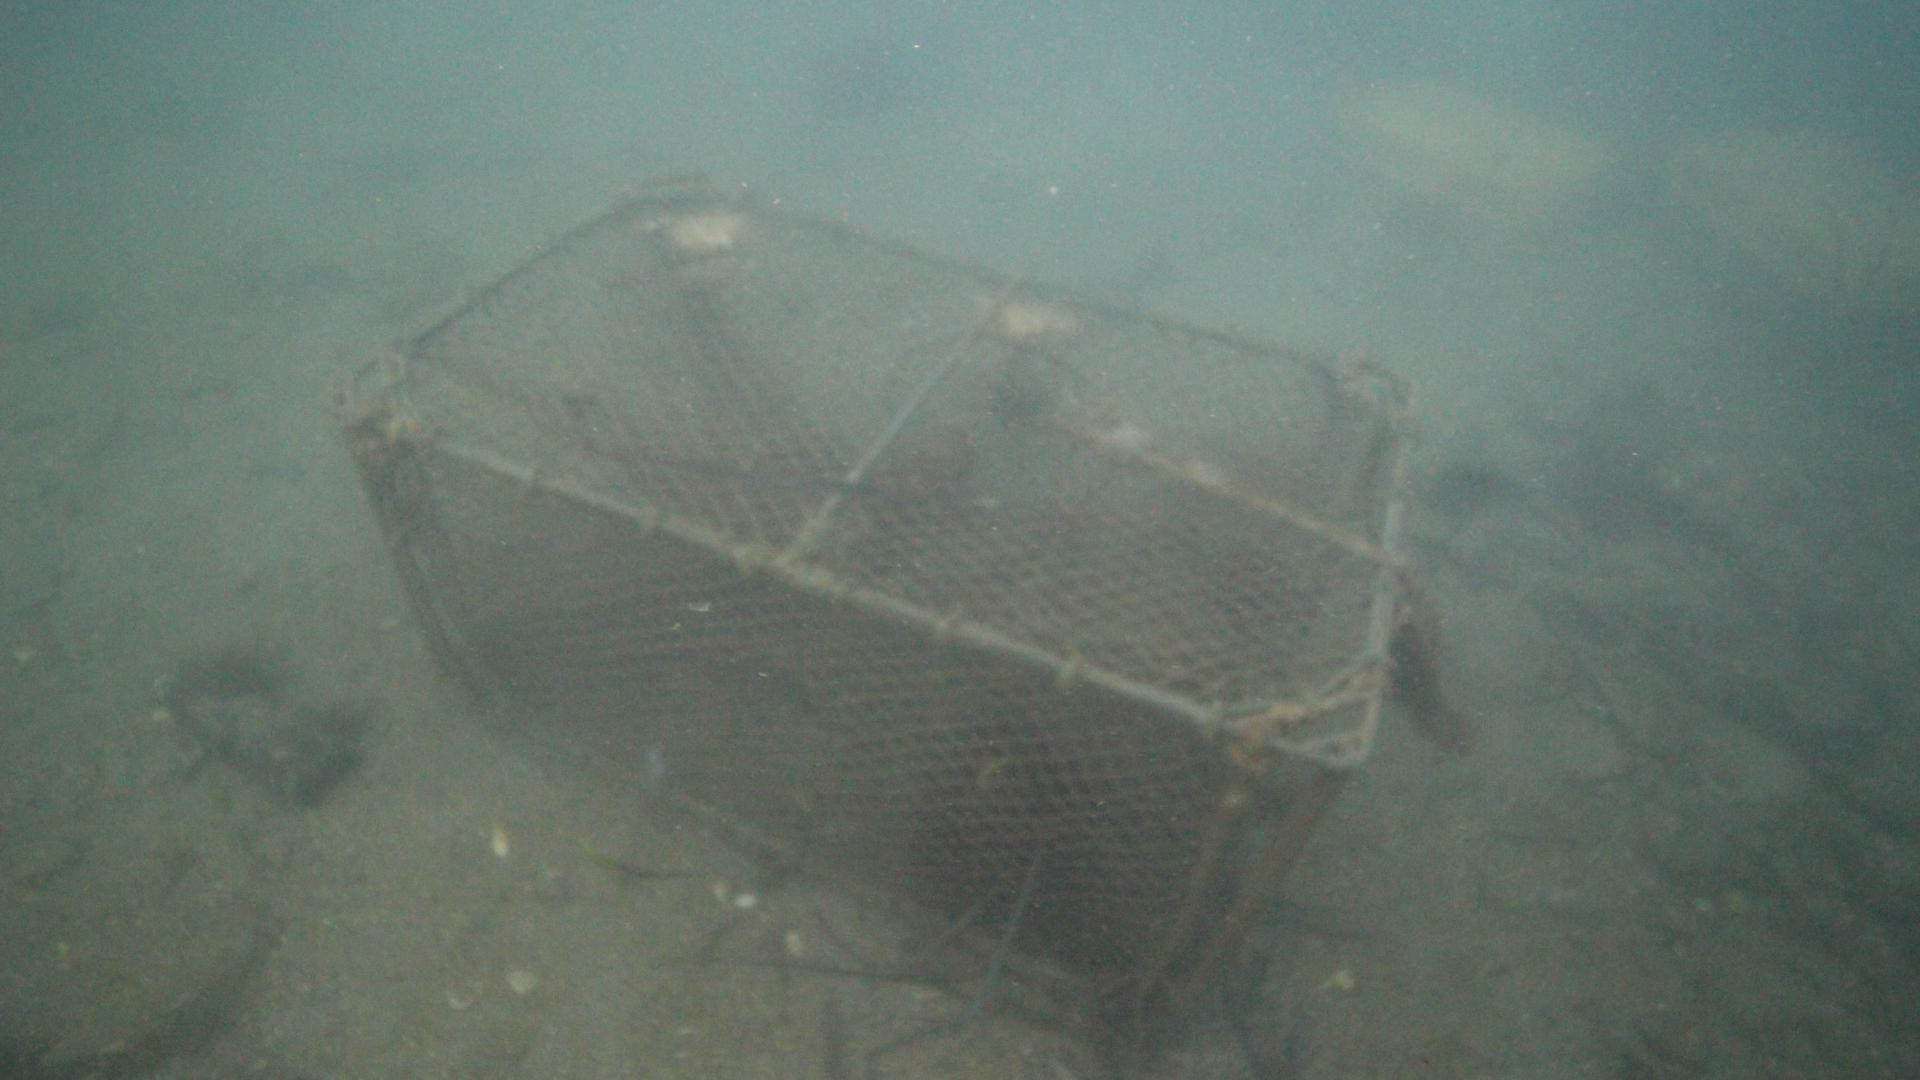rectangular fish trap: (320, 167, 1422, 1058)
